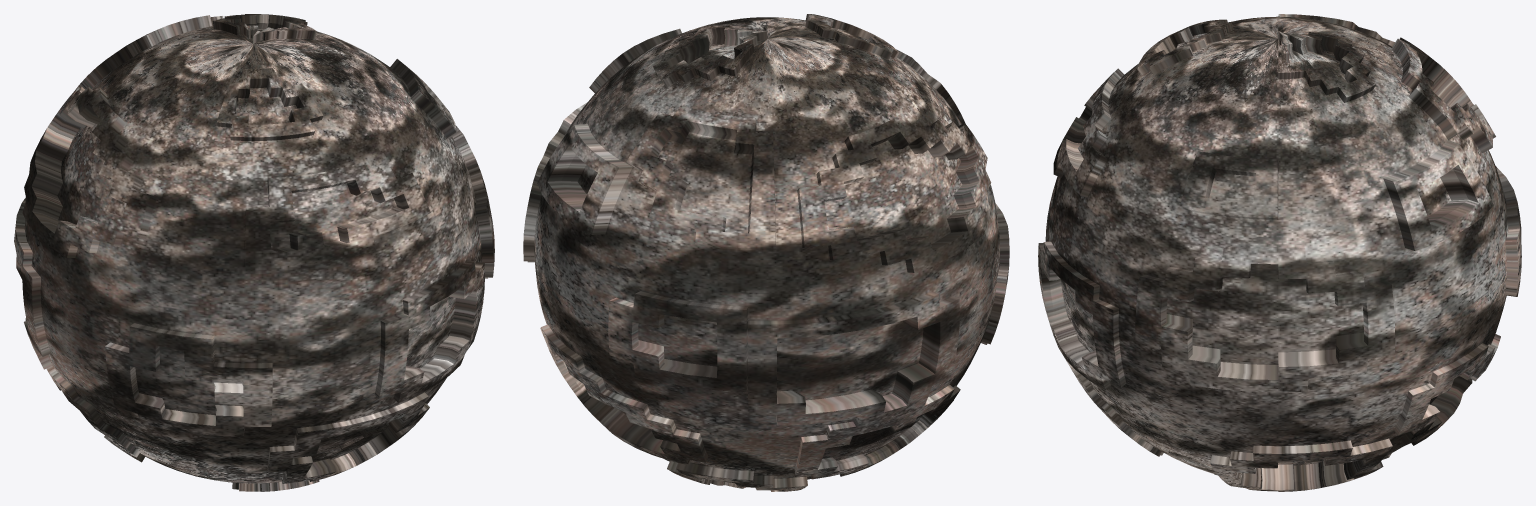
File: Asteroid.fbx
3 renders of one model, left to right at view 1: azimuth 30°, elevation 25°; view 2: azimuth 150°, elevation 25°; view 3: azimuth 270°, elevation 25°, orthographic.
Parts seen in each view (by area): view 1: pSphere2; view 2: pSphere2; view 3: pSphere2.
Part boxes in pixels (x1,y1,x2,y2): pSphere2: (14, 14, 494, 491); pSphere2: (523, 14, 1009, 491); pSphere2: (1038, 14, 1521, 491).
Size of the model in its own units: 2.08 by 2.07 by 2.08.
